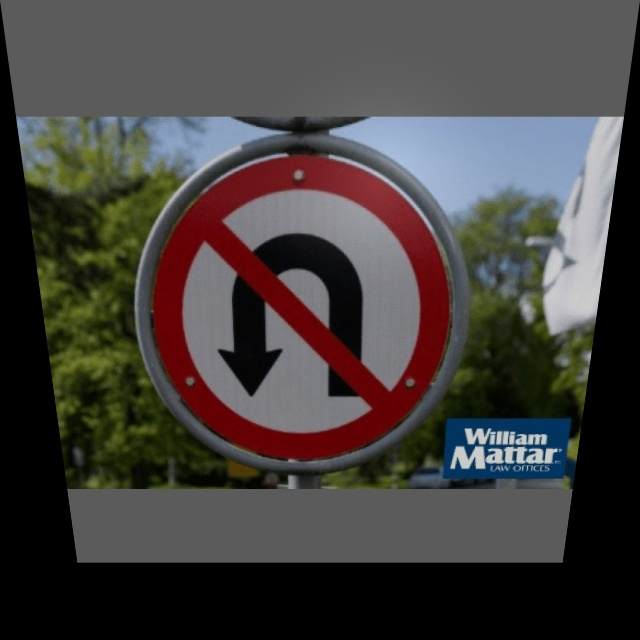U_Turn_Prohibited: (126, 140, 460, 447)
